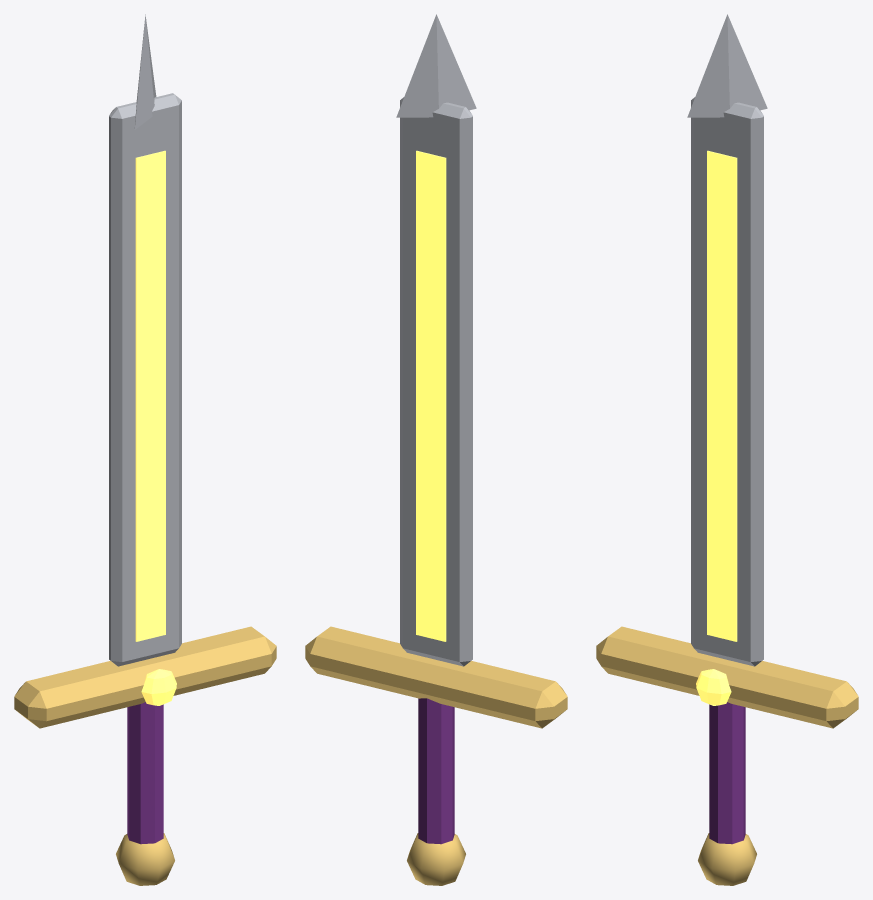
Rendered from w_flame.glb.
The picture shows the model from 3 angles, left to right: view 1: azimuth 30°, elevation 25°; view 2: azimuth 150°, elevation 25°; view 3: azimuth 330°, elevation 25°; orthographic projection.
Parts seen in each view (by area): view 1: w_flame; view 2: w_flame; view 3: w_flame.
Boxes of the visible parts, bbox=[...] form: w_flame: bbox=[14, 14, 276, 885]; w_flame: bbox=[305, 14, 567, 885]; w_flame: bbox=[596, 14, 858, 885].
Bounding box in the file's own units: 0.42 × 1.41 × 0.105.
